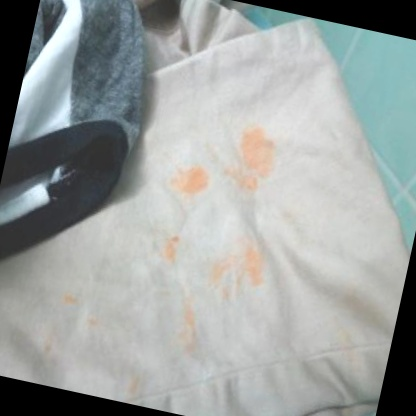kimchi: (221, 115, 292, 199), (204, 236, 270, 309), (314, 311, 374, 379), (161, 158, 216, 205), (170, 301, 202, 361), (159, 232, 187, 272), (55, 288, 83, 315), (125, 372, 148, 398), (83, 314, 98, 334), (38, 337, 53, 354)
